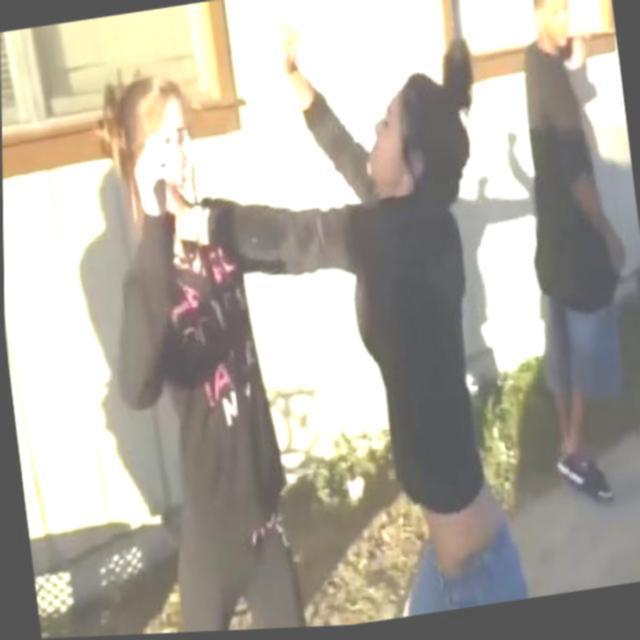fight: (73, 0, 544, 637)
